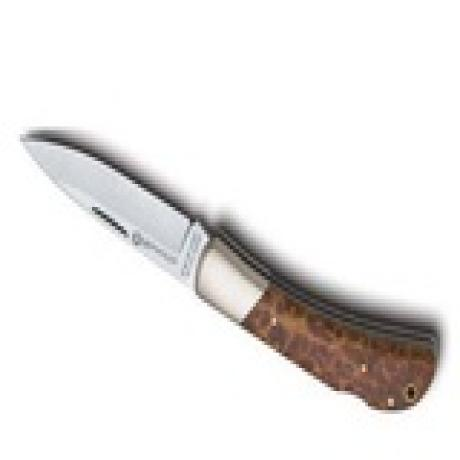weapon: (21, 131, 436, 414)
